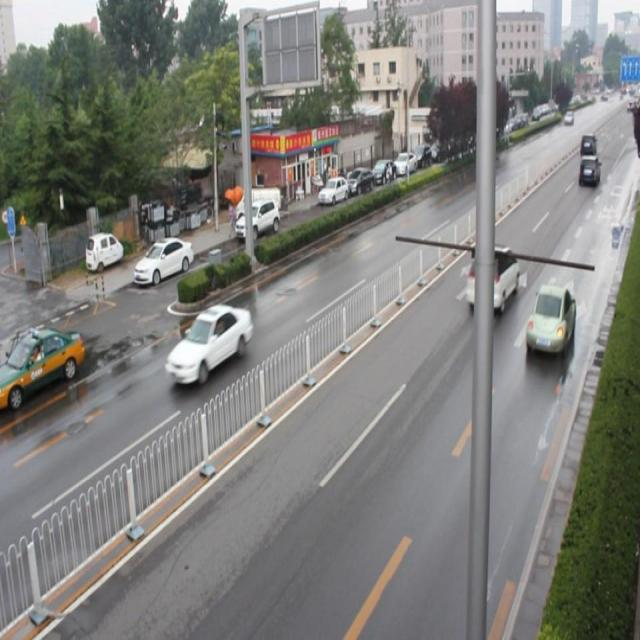car: (165, 302, 252, 389), (524, 282, 574, 358), (466, 243, 518, 316)
truck: (577, 156, 598, 188)
